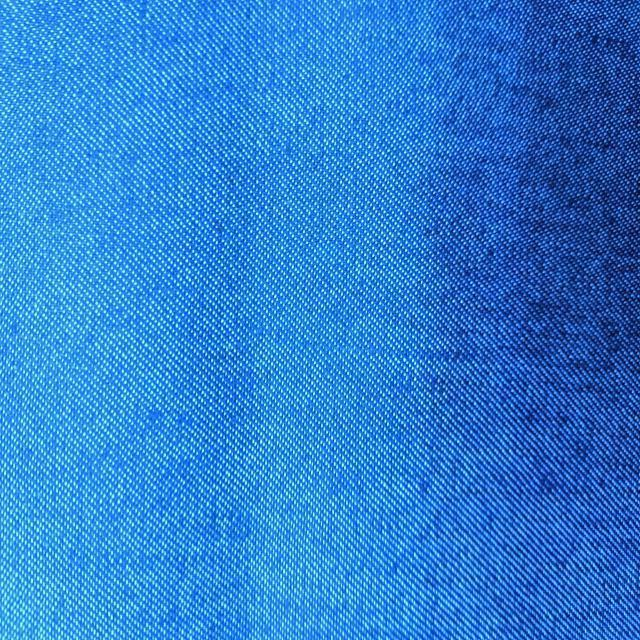Line: (250, 339, 475, 371)
